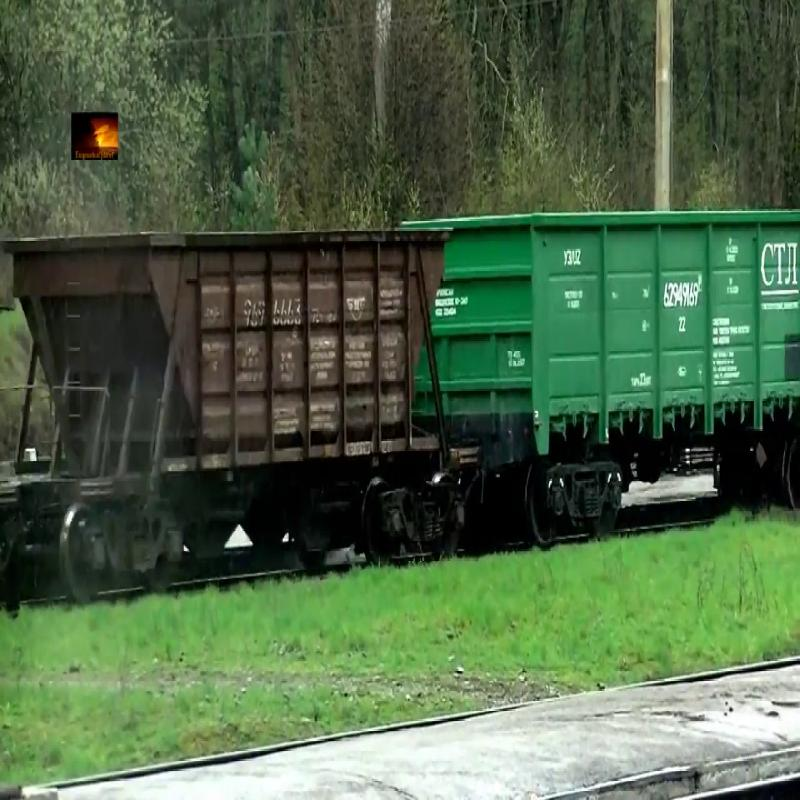train: (3, 224, 451, 473), (415, 208, 799, 485)
